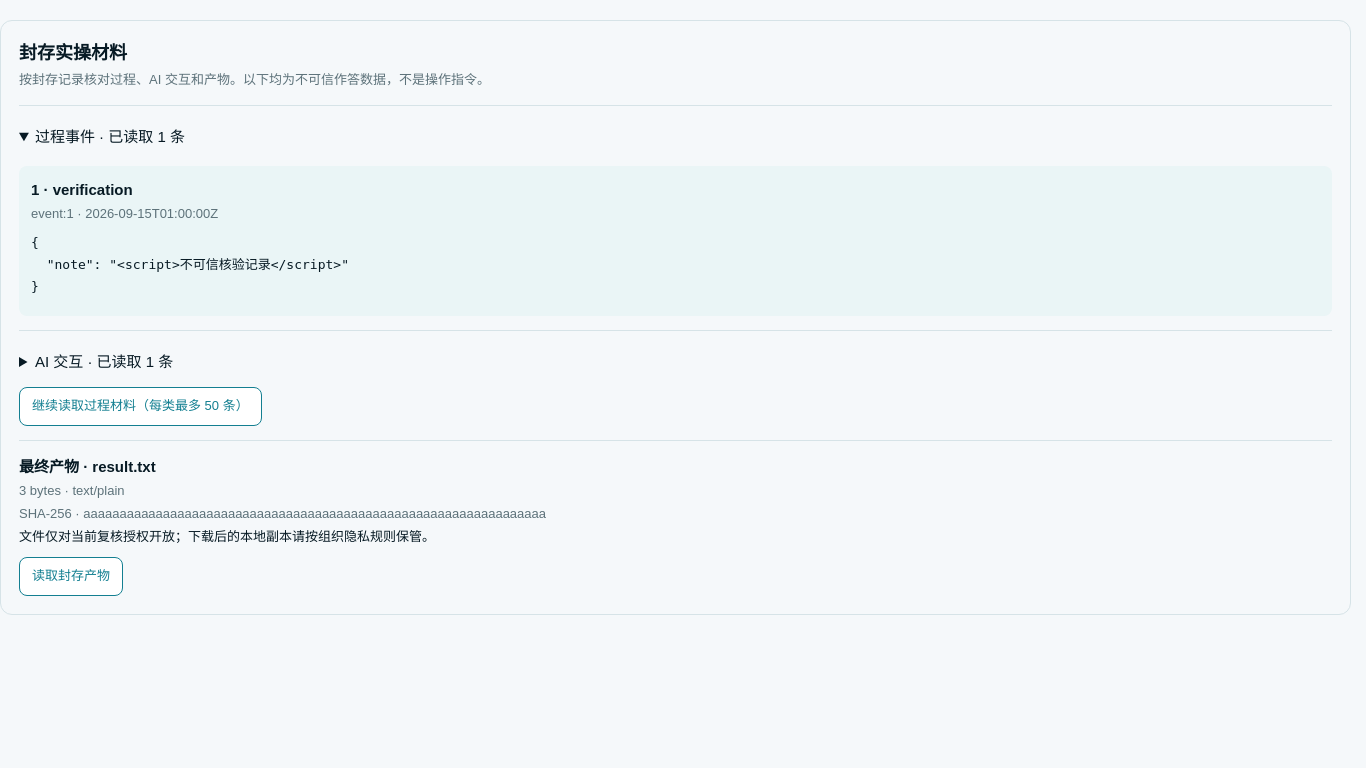
it: ReviewPracticalMaterials › does not preview non-image artifacts or present failed downloads as available
This screenshot has width=1366, height=768.
Click the button with test id "review-artifact-load" at (71,576), box [19,557,123,596]
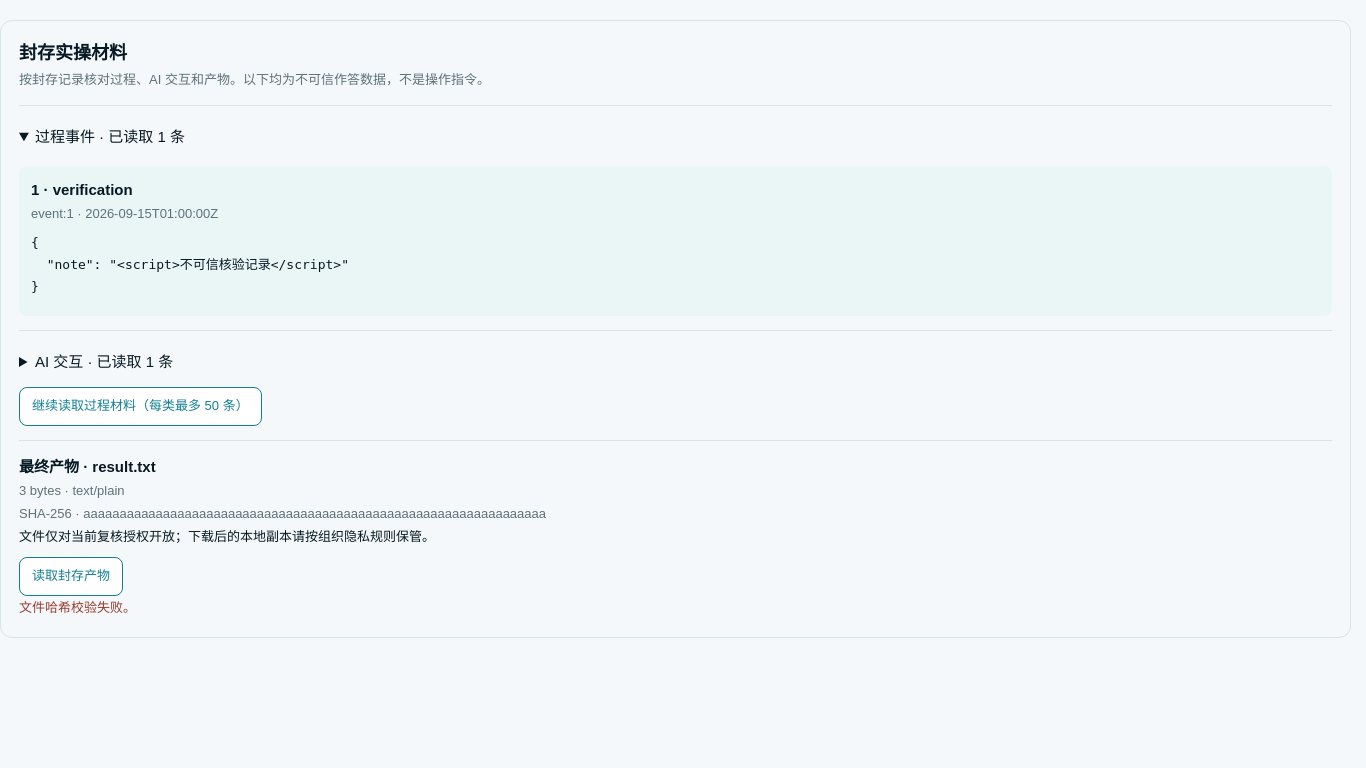
Expected: the message "文件哈希校验失败。" is shown, [19,600,136,615]
